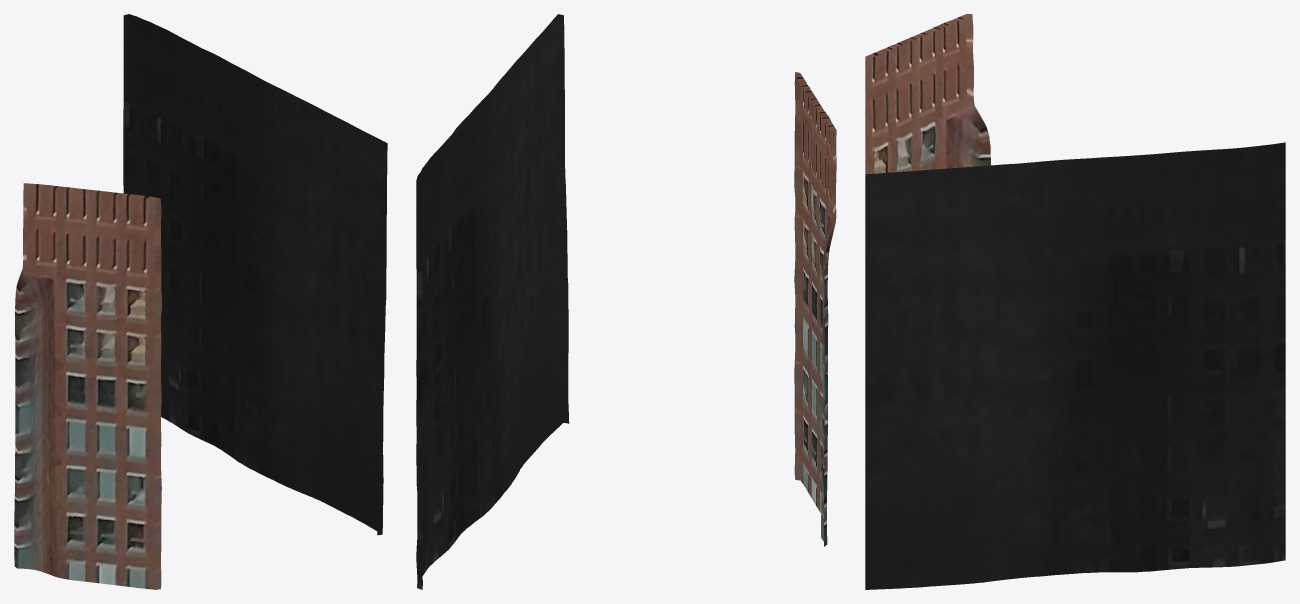
The model's file is z20-167777-405232-h1-yup-uvflip-v3-world.glb.
3 renders of one model, left to right at view 1: azimuth 30°, elevation 25°; view 2: azimuth 150°, elevation 25°; view 3: azimuth 270°, elevation 25°, orthographic. The views are drawn at different scales.
Size of the model in its own units: 27.84 by 33.12 by 30.32.
Materials: 1 (1 with a texture image).
